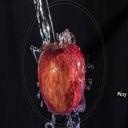apple: (36, 41, 86, 114)
